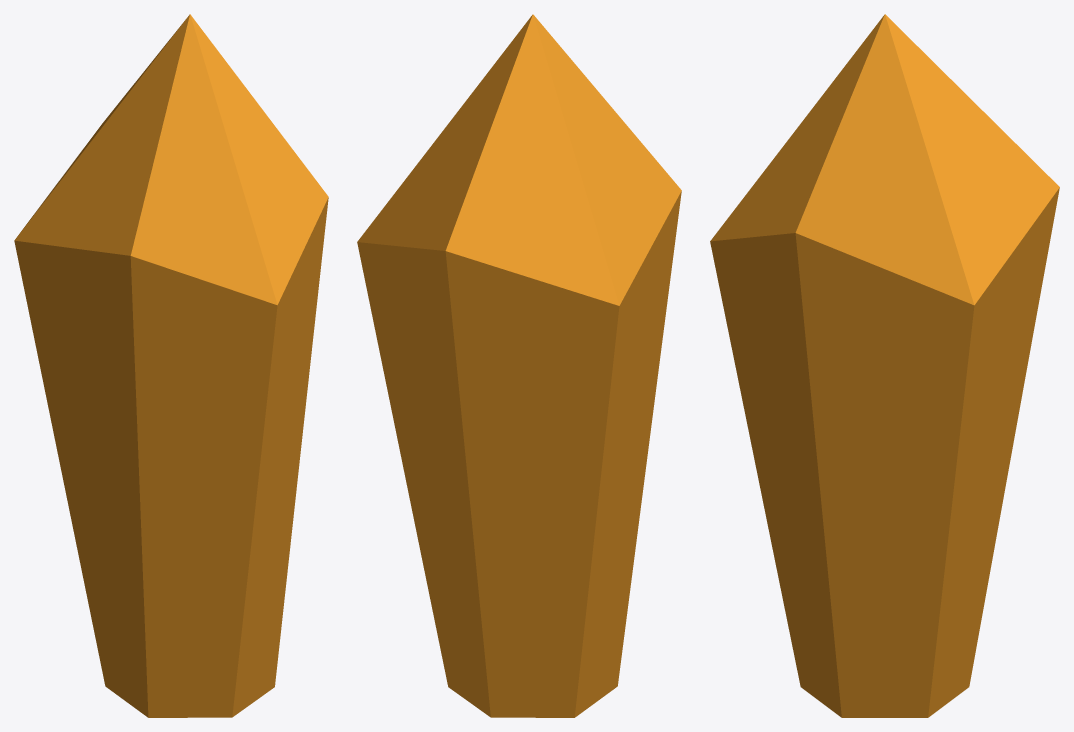
Rendered from Crystal-A03.fbx.
3 views of the same model, side by side, from view 1: azimuth 30°, elevation 25°; view 2: azimuth 150°, elevation 25°; view 3: azimuth 270°, elevation 25° (orthographic).
Parts seen in each view (by area): view 1: Crystal-A03; view 2: Crystal-A03; view 3: Crystal-A03.
Boxes of the visible parts, bbox=[...] form: Crystal-A03: bbox=[14, 14, 328, 717]; Crystal-A03: bbox=[357, 14, 681, 717]; Crystal-A03: bbox=[710, 14, 1059, 717].
Size of the model in its own units: 32.74 by 80.23 by 37.79.
